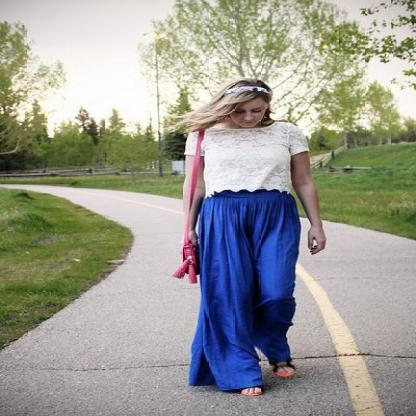bag: (174, 244, 198, 283)
pants: (189, 189, 306, 394)
shirt: (184, 124, 310, 198)
shoe: (221, 365, 289, 393)
